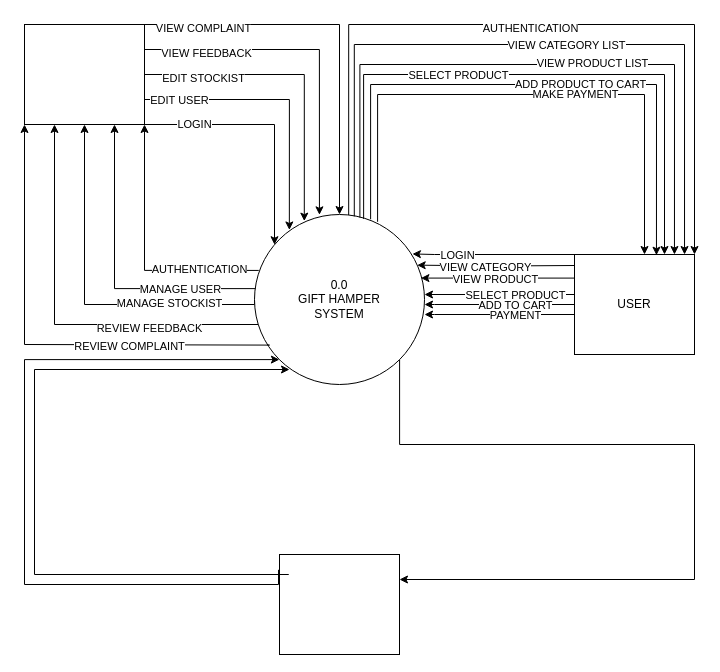
Some shapes in this 720 by 672 pixel diagram are drawn without their labels. The shapes that lost their labels are listed below. From the top down, each one's centre as x and y in pixels, then its label:
At point (84, 74): "ADMIN".
At point (339, 604): "GIFT STOCKIST".
